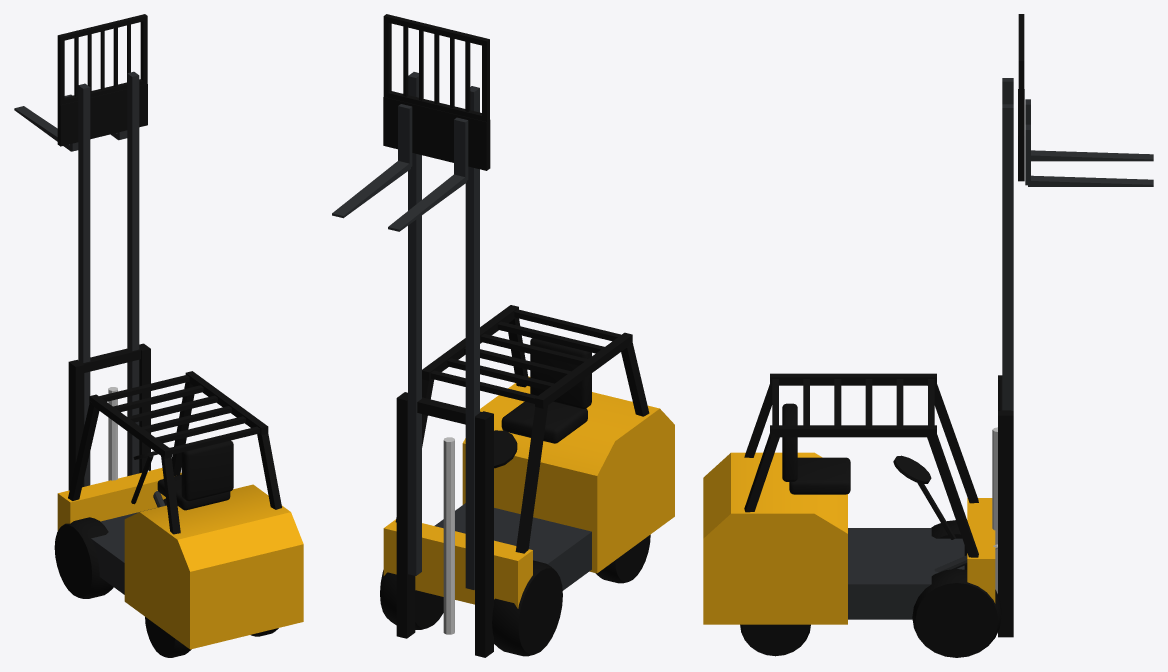
The model's file is plant.lifting.forklift_high.glb.
3 renders of one model, left to right at view 1: azimuth 30°, elevation 25°; view 2: azimuth 150°, elevation 25°; view 3: azimuth 270°, elevation 25°, orthographic. The views are drawn at different scales.
Parts seen in each view (by area): view 1: body__plant_yellow, body__plastic_black, mast__steel_dark, carriage__plastic_black, wheels__rubber, mast__plastic_black, body__steel_dark, carriage__steel_dark, mast__steel_stainless; view 2: body__plant_yellow, body__plastic_black, mast__steel_dark, carriage__plastic_black, mast__plastic_black, wheels__rubber, body__steel_dark, carriage__steel_dark, mast__steel_stainless; view 3: body__plant_yellow, body__plastic_black, wheels__rubber, body__steel_dark, mast__steel_dark, mast__plastic_black, carriage__steel_dark, carriage__plastic_black, mast__steel_stainless.
Part boxes in pixels (x1,y1,x2,y2): body__plant_yellow: (57,468,303,649); body__plastic_black: (68,371,281,534); mast__steel_dark: (78,71,165,507); carriage__plastic_black: (57,14,147,146); wheels__rubber: (54,498,278,657); mast__plastic_black: (68,343,150,490); body__steel_dark: (91,508,155,594); carriage__steel_dark: (14,94,127,151); mast__steel_stainless: (108,387,148,480); body__plant_yellow: (383,376,674,608); body__plastic_black: (395,305,649,553); mast__steel_dark: (408,72,479,589); carriage__plastic_black: (383,14,490,170); mast__plastic_black: (396,392,493,657); wheels__rubber: (380,534,650,656); body__steel_dark: (434,503,591,590); carriage__steel_dark: (332,104,468,231); mast__steel_stainless: (443,437,454,634); body__plant_yellow: (703,452,995,624); body__plastic_black: (744,373,978,557); wheels__rubber: (740,520,1001,657); body__steel_dark: (848,528,964,619); mast__steel_dark: (934,78,1013,572); mast__plastic_black: (998,375,1013,637); carriage__steel_dark: (1025,99,1153,186); carriage__plastic_black: (1018,14,1024,181); mast__steel_stainless: (992,427,997,593).
Bounding box in the file's own units: 1.34 × 5.87 × 4.05.
